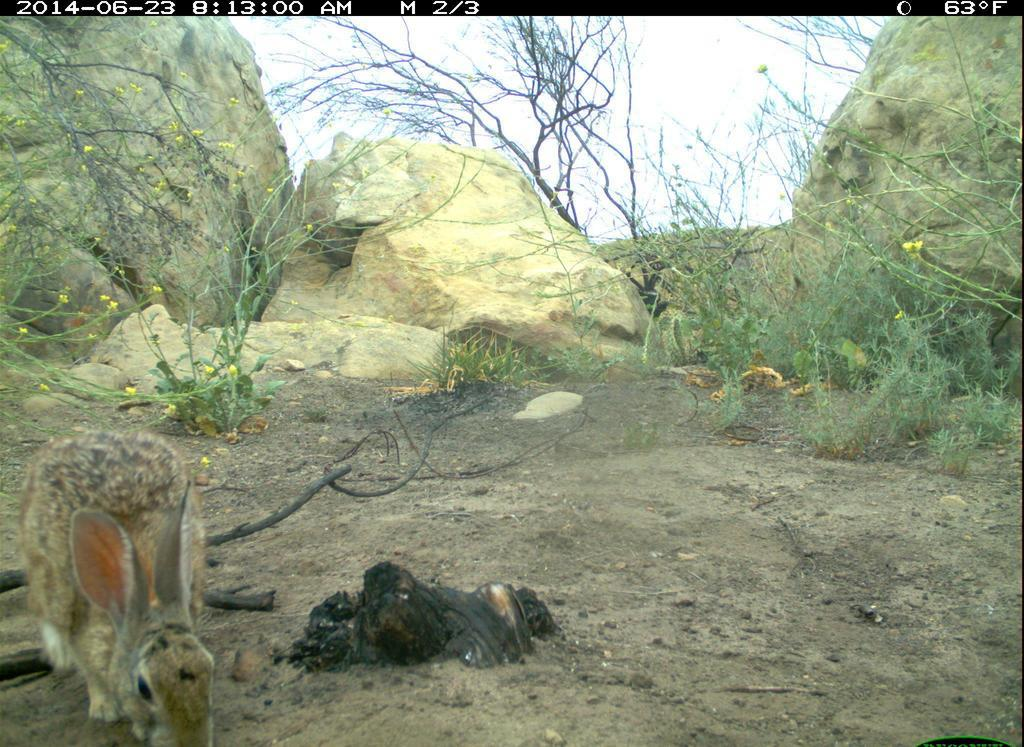rabbit: (17, 407, 239, 743)
